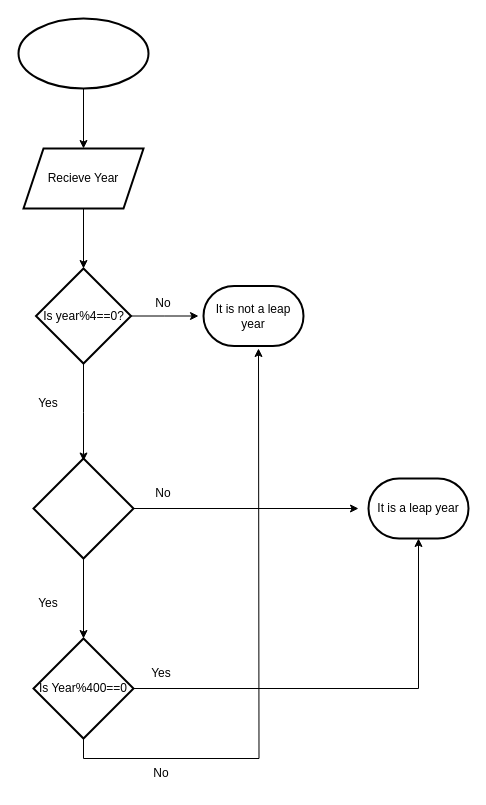
The diagram is 486 pixels wide and 805 high, and some of its shapes have lost their labels. Here are the shapes that lost their labels. From the top down, the centre of each, then its label:
the point at 83,53: Please Input Year
the point at 83,508: Is Year%100==0
